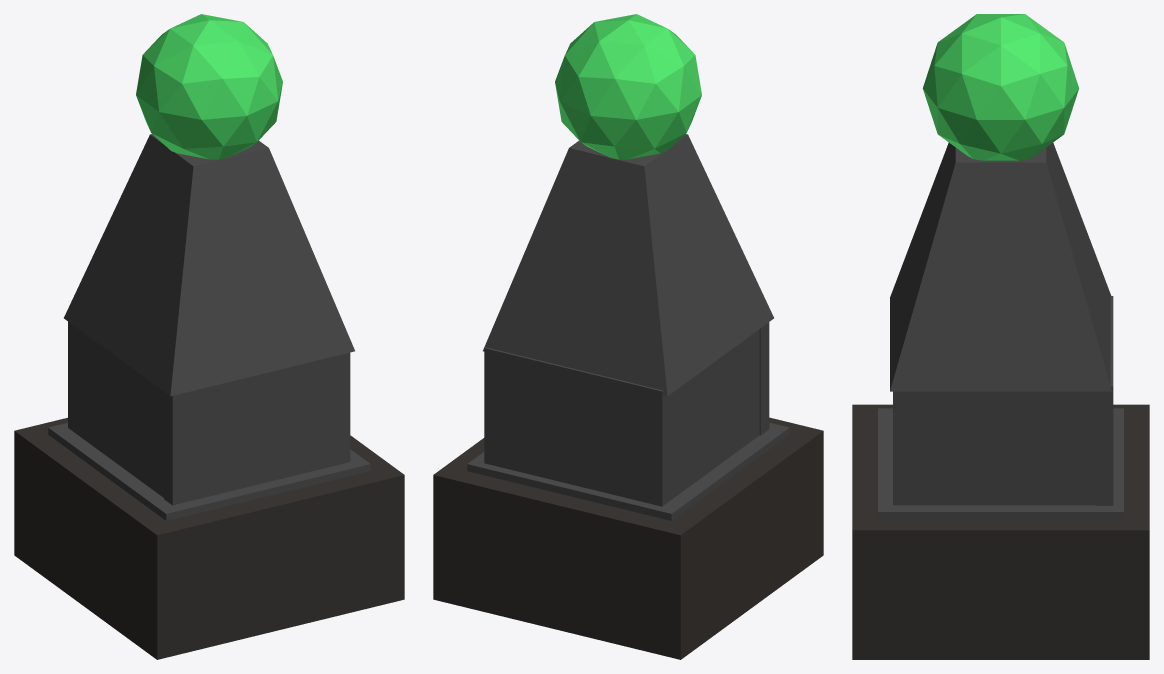
The model's file is 治疗塔.fbx.
The picture shows the model from 3 angles, left to right: view 1: azimuth 30°, elevation 25°; view 2: azimuth 150°, elevation 25°; view 3: azimuth 270°, elevation 25°; orthographic projection. The views are drawn at different scales.
Parts seen in each view (by area): view 1: 立方体, 立方体.001, 立方体.011, 棱角球, 立方体.009, 立方体.004; view 2: 立方体, 立方体.001, 立方体.008, 棱角球, 立方体.009, 立方体.004, 立方体.011; view 3: 立方体, 立方体.001, 立方体.010, 棱角球, 立方体.004, 立方体.008.
Part boxes in pixels (x1,y1,x2,y2): 立方体: (14, 417, 404, 659); 立方体.001: (64, 134, 354, 396); 立方体.011: (164, 352, 350, 505); 棱角球: (136, 14, 282, 159); 立方体.009: (68, 321, 163, 497); 立方体.004: (48, 422, 370, 520); 立方体: (433, 417, 823, 659); 立方体.001: (483, 134, 773, 396); 立方体.008: (484, 347, 662, 506); 棱角球: (555, 14, 701, 159); 立方体.009: (648, 329, 759, 506); 立方体.004: (467, 422, 789, 520); 立方体.011: (759, 322, 769, 435); 立方体: (852, 404, 1149, 659); 立方体.001: (890, 142, 1111, 391); 立方体.010: (893, 391, 1095, 505); 棱角球: (922, 14, 1079, 160); 立方体.004: (878, 408, 1123, 519); 立方体.008: (1095, 296, 1113, 505).
Bounding box in the file's own units: 246 × 246 × 529.
